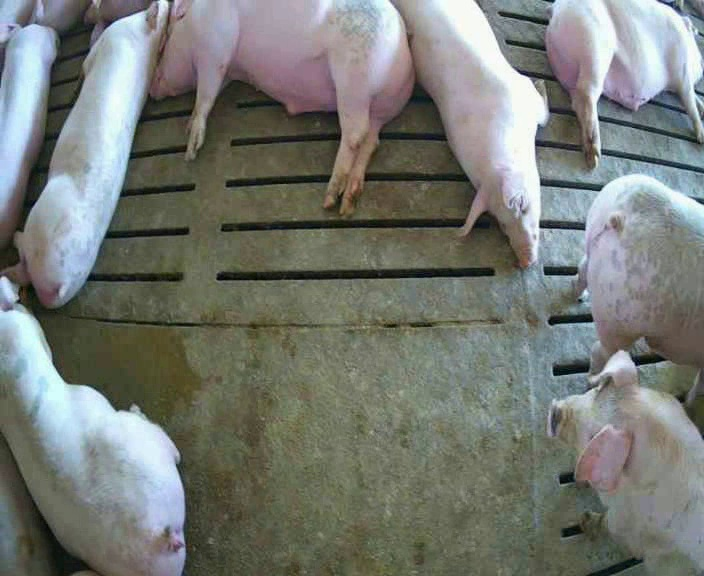pig: (150, 2, 413, 212), (0, 2, 167, 307), (395, 2, 547, 266), (547, 350, 703, 573), (575, 174, 703, 407), (545, 2, 703, 168), (0, 24, 57, 248)
